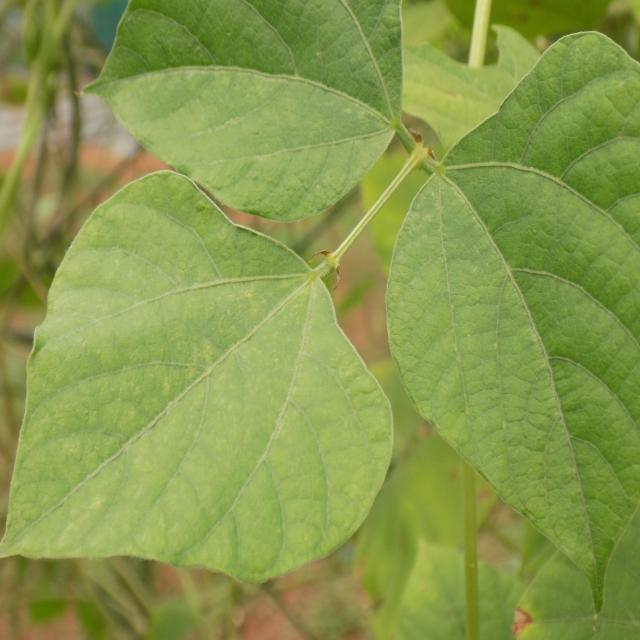Dolicos bean_cercospora leaf spot: (0, 166, 396, 588), (383, 25, 640, 628)
